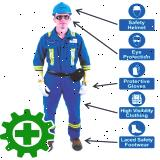Helmet: (51, 1, 73, 16)
